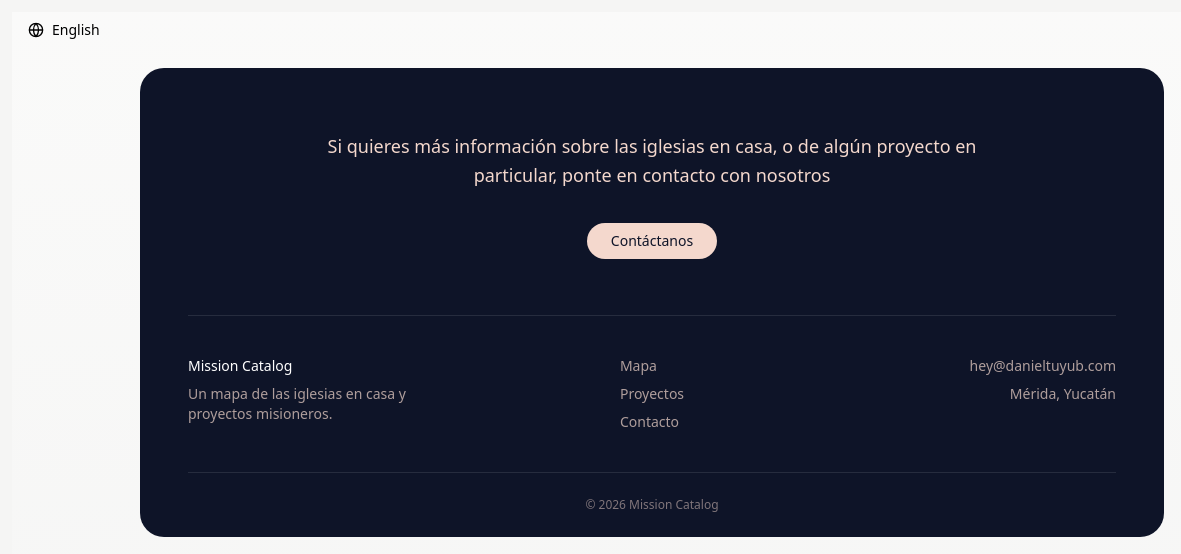
it: LanguageSwitch › switches the text, the document language and remembers the choice
Check: the link "Contáctanos" is shown, box x1=587 y1=222 x2=717 y2=258
Click the button with aria-label "Cambiar idioma: English": (64, 30) x1=12 y1=12 x2=116 y2=48
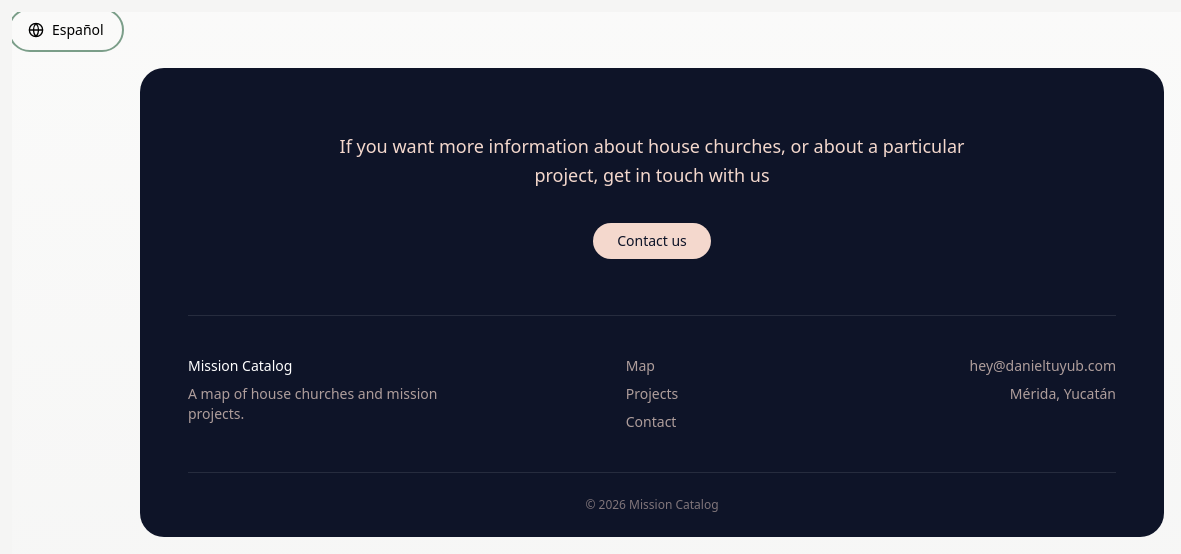
Check: the link "Contact us" is shown, box x1=593 y1=222 x2=711 y2=258
Check: the button with aria-label "Change language: Español" is shown, box x1=12 y1=12 x2=120 y2=48
